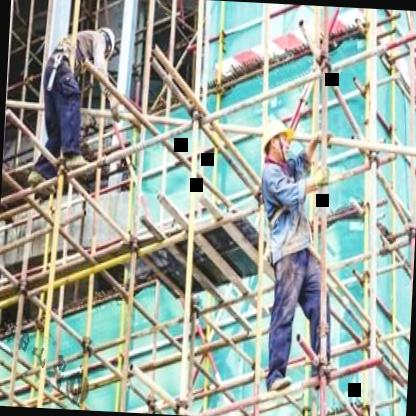helmet: (259, 115, 291, 169), (93, 24, 116, 62)
